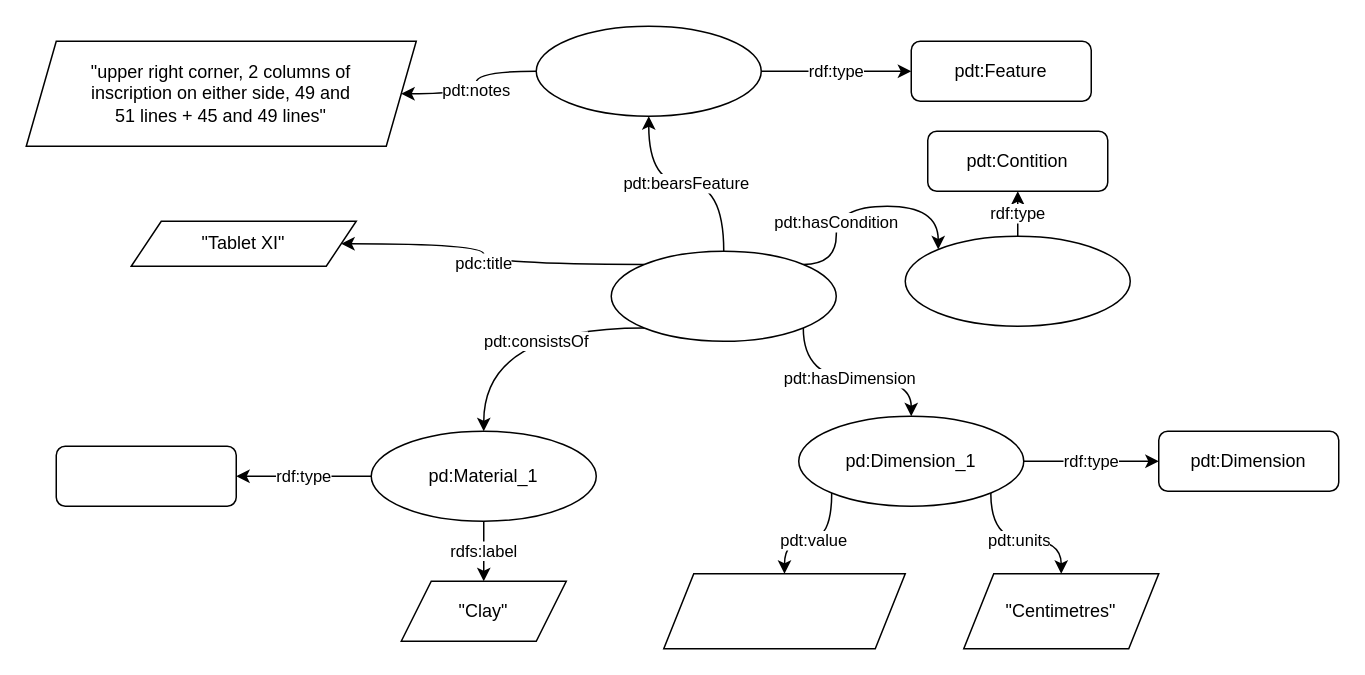
The diagram is 1365 pixels wide and 675 high, and some of its shapes have lost their labels. The shapes that lost their labels are listed below. From the top down, each one's box as (x1, y1, x2, y2) in pixels, then its label:
(535, 25, 761, 116): pd:Feature_1
(610, 250, 836, 341): pd:PrimarySource_1
(904, 235, 1130, 326): pd:Condition_1
(55, 445, 236, 506): pdt:Material
(662, 572, 905, 649): 15.24 x 13.33 x 3.17
